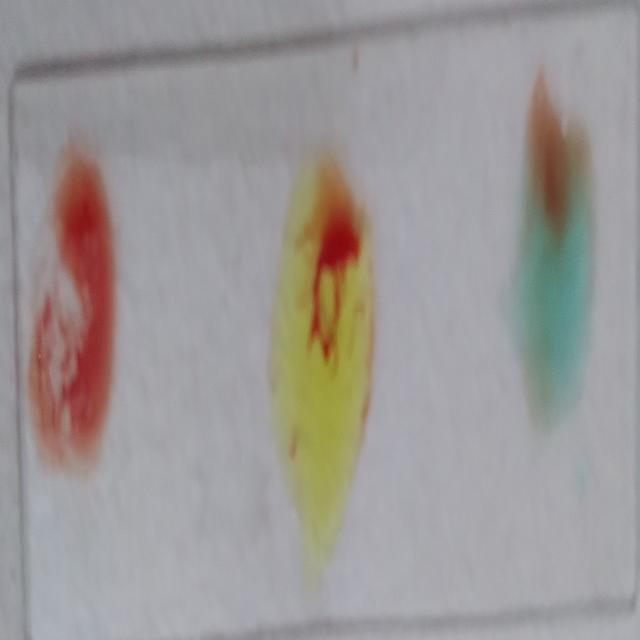B: (278, 148, 369, 548)
D: (32, 140, 112, 476)
